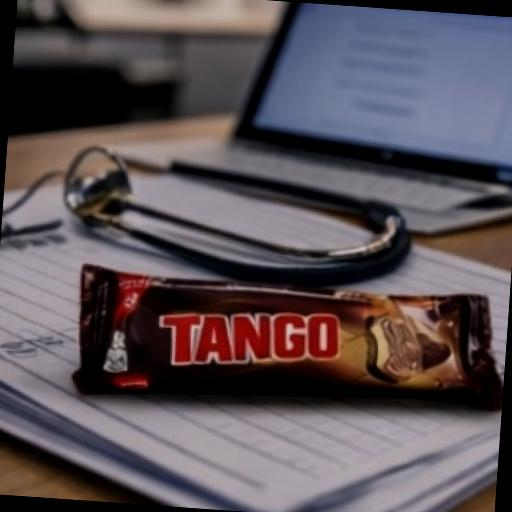tango: (55, 192, 512, 447)
